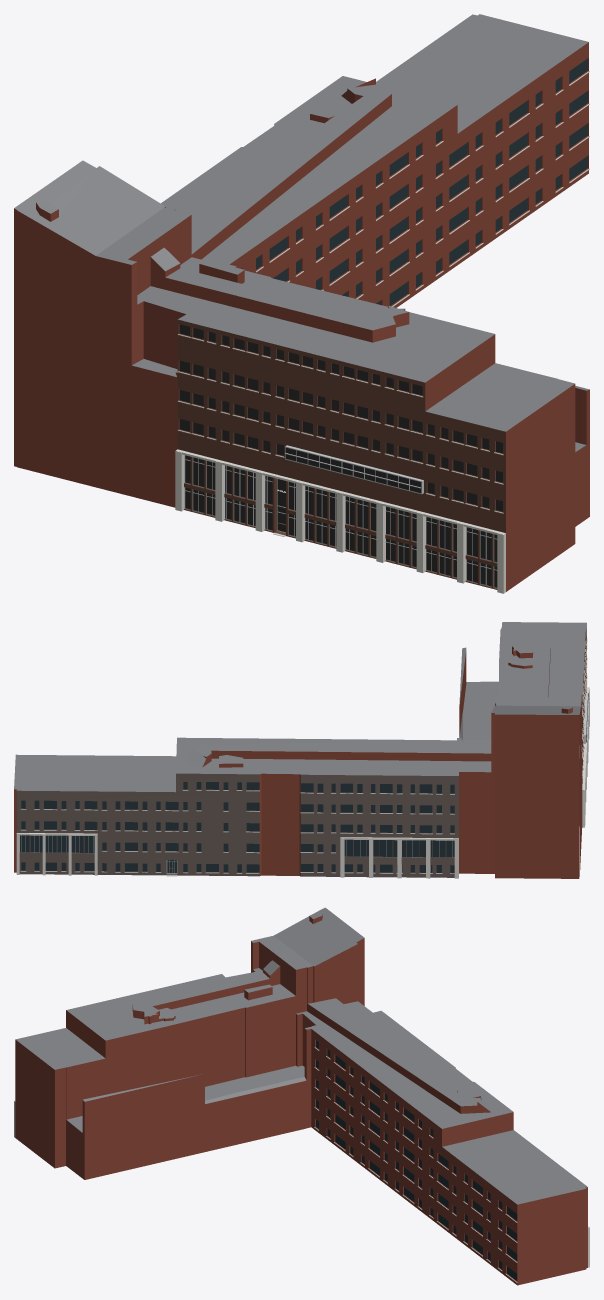
File: recipe-large-stadsloket-zuidoost.glb
3 renders of one model, top to bottom at view 1: azimuth 30°, elevation 25°; view 2: azimuth 150°, elevation 25°; view 3: azimuth 270°, elevation 25°, orthographic. The views are drawn at different scales.
Parts seen in each view (by area): view 1: stadsloket-zuidoost; view 2: stadsloket-zuidoost; view 3: stadsloket-zuidoost.
Part boxes in pixels (x1,y1,x2,y2): stadsloket-zuidoost: (14, 14, 589, 593); stadsloket-zuidoost: (14, 622, 589, 878); stadsloket-zuidoost: (14, 907, 589, 1285).
Bounding box in the file's own units: 96.43 × 32.94 × 107.
